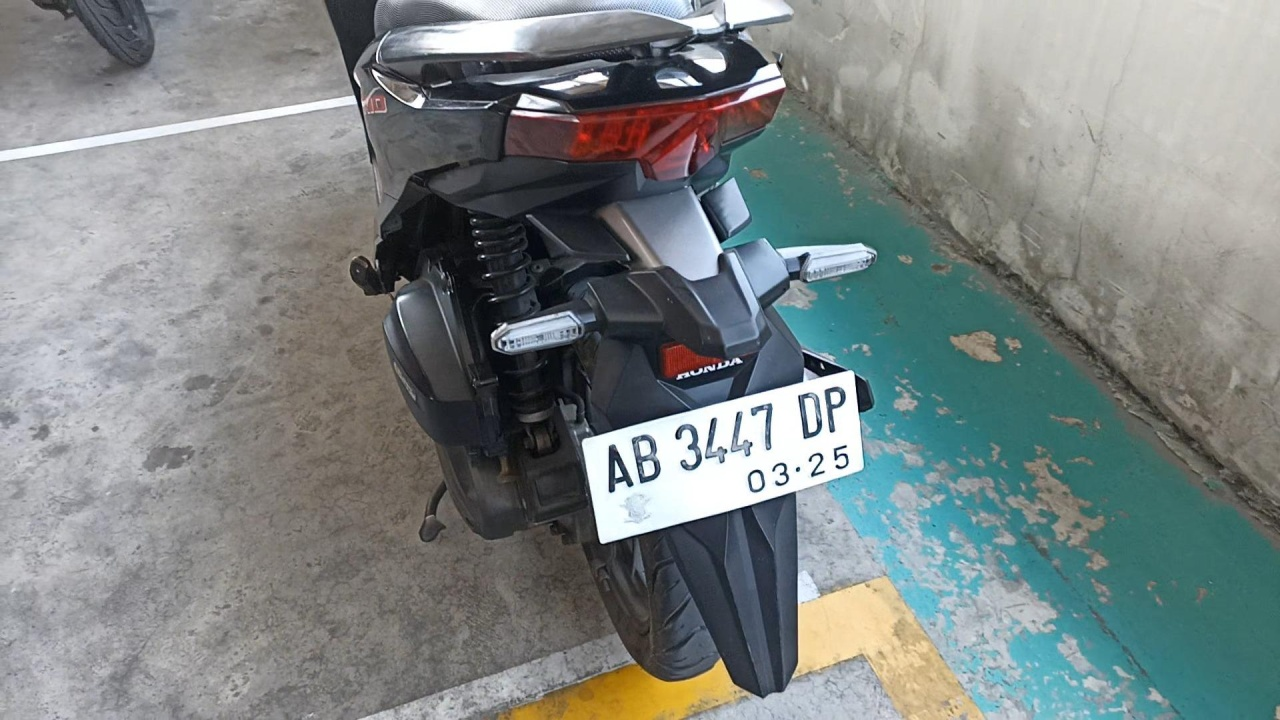plate: (582, 369, 865, 543)
